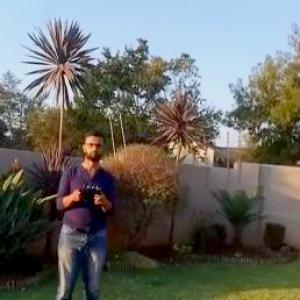follow: (50, 124, 120, 299)
